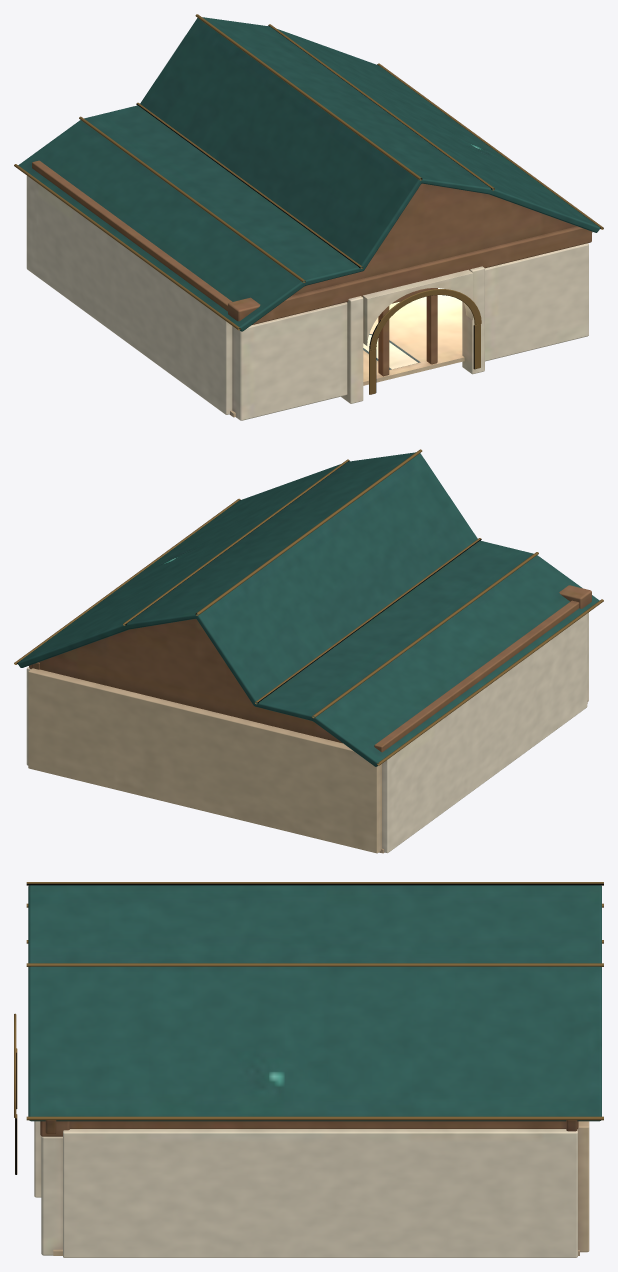
Rendered from foyer-gallery.glb.
3 views of the same model, one above another, from view 1: azimuth 30°, elevation 25°; view 2: azimuth 150°, elevation 25°; view 3: azimuth 270°, elevation 25° (orthographic). The views are drawn at different scales.
Parts seen in each view (by area): view 1: VIS · House; view 2: VIS · House; view 3: VIS · House.
Part boxes in pixels (<box>): VIS · House: <box>14,14,603,420</box>; VIS · House: <box>14,449,603,853</box>; VIS · House: <box>14,882,603,1257</box>.
Bounding box in the file's own units: 12.16 × 6.74 × 13.17.
9 materials, 8 textured.
